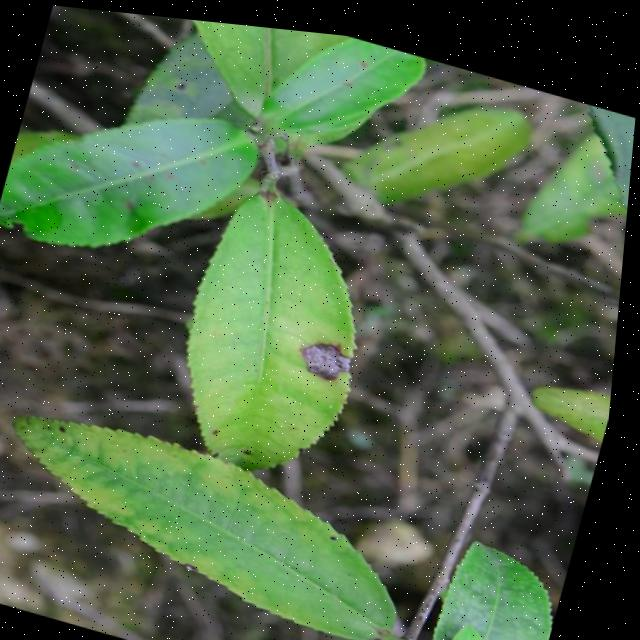Tea red scab: (292, 319, 370, 389)
